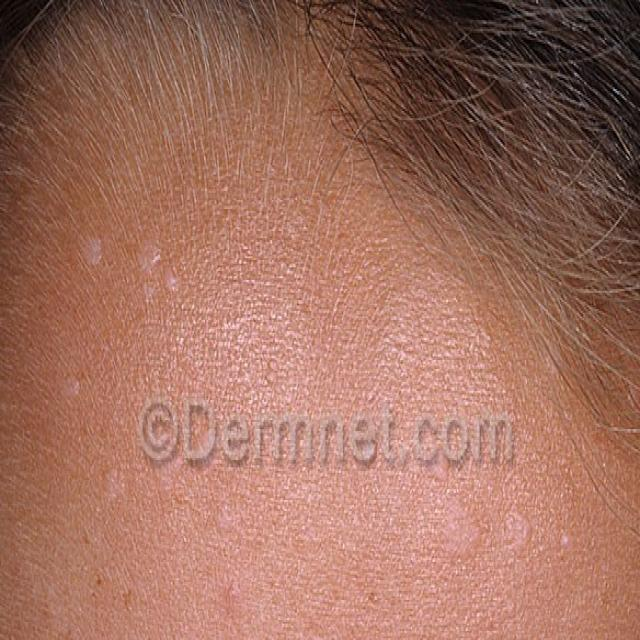Warts: (51, 209, 192, 305), (53, 355, 134, 518), (422, 473, 552, 564)
